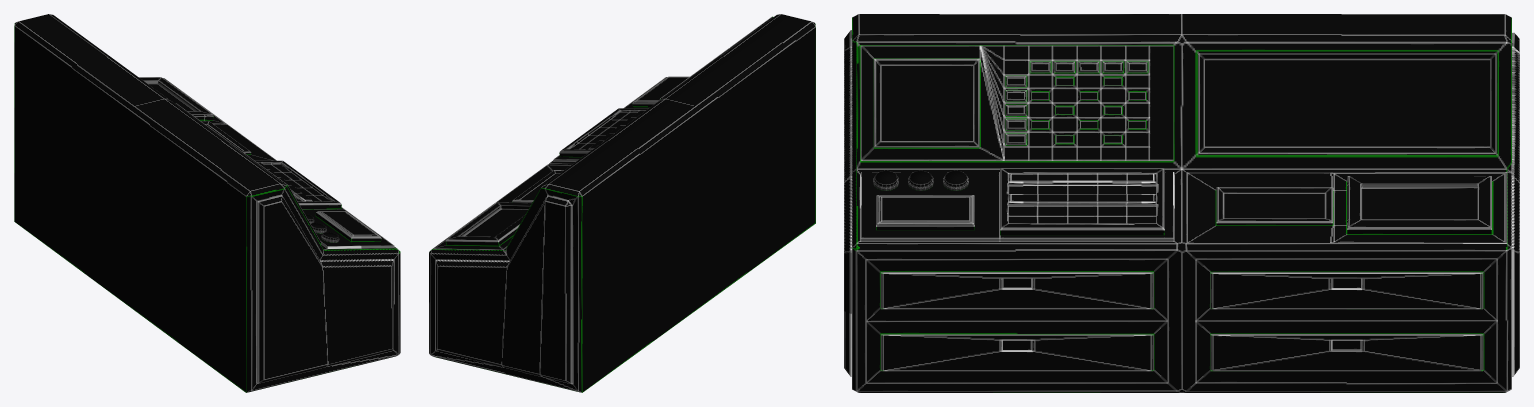
Rendered from Control Panel.FBX.
3 renders of one model, left to right at view 1: azimuth 30°, elevation 25°; view 2: azimuth 150°, elevation 25°; view 3: azimuth 270°, elevation 25°, orthographic. The views are drawn at different scales.
Parts seen in each view (by area): view 1: Box001; view 2: Box001; view 3: Box001.
Part boxes in pixels (<box>): Box001: <box>14,14,400,392</box>; Box001: <box>429,14,815,392</box>; Box001: <box>844,14,1519,392</box>.
Size of the model in its own units: 29.97 by 36.88 by 80.65.
